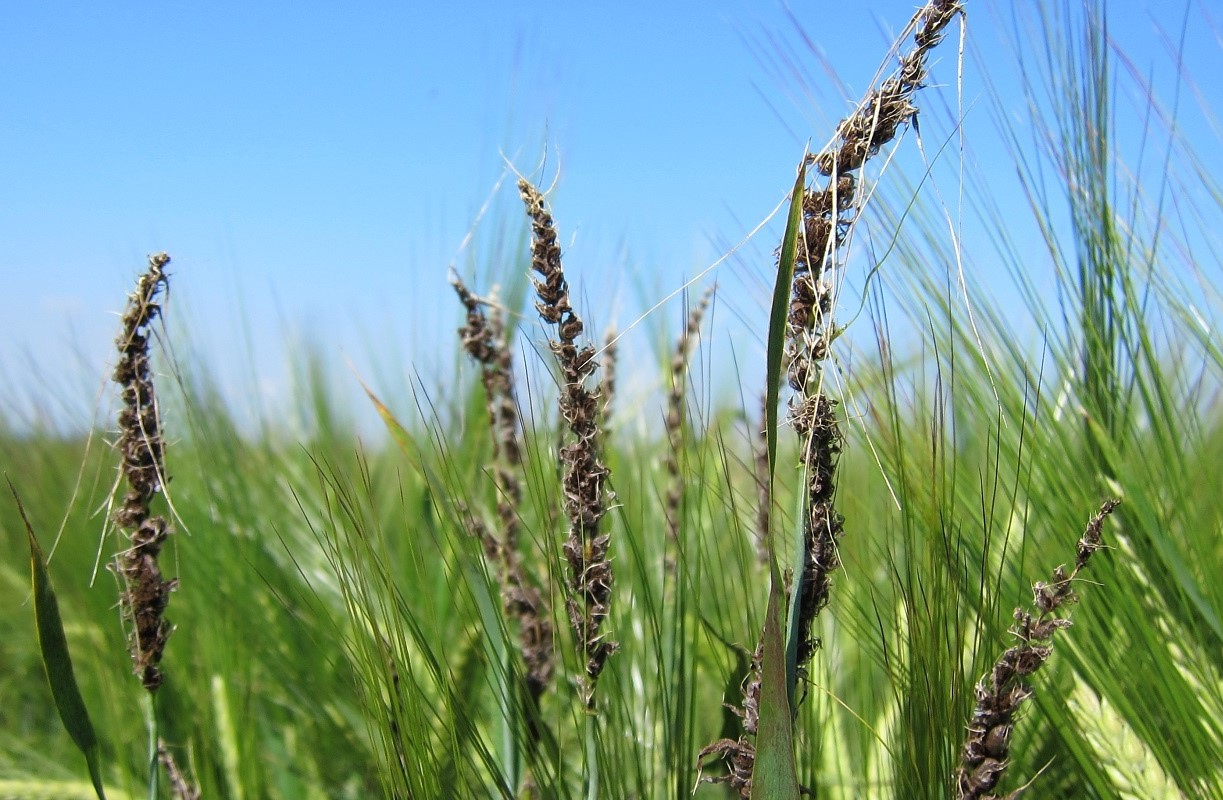Wheat Loose Smut: (433, 1, 952, 686), (98, 243, 183, 698)
